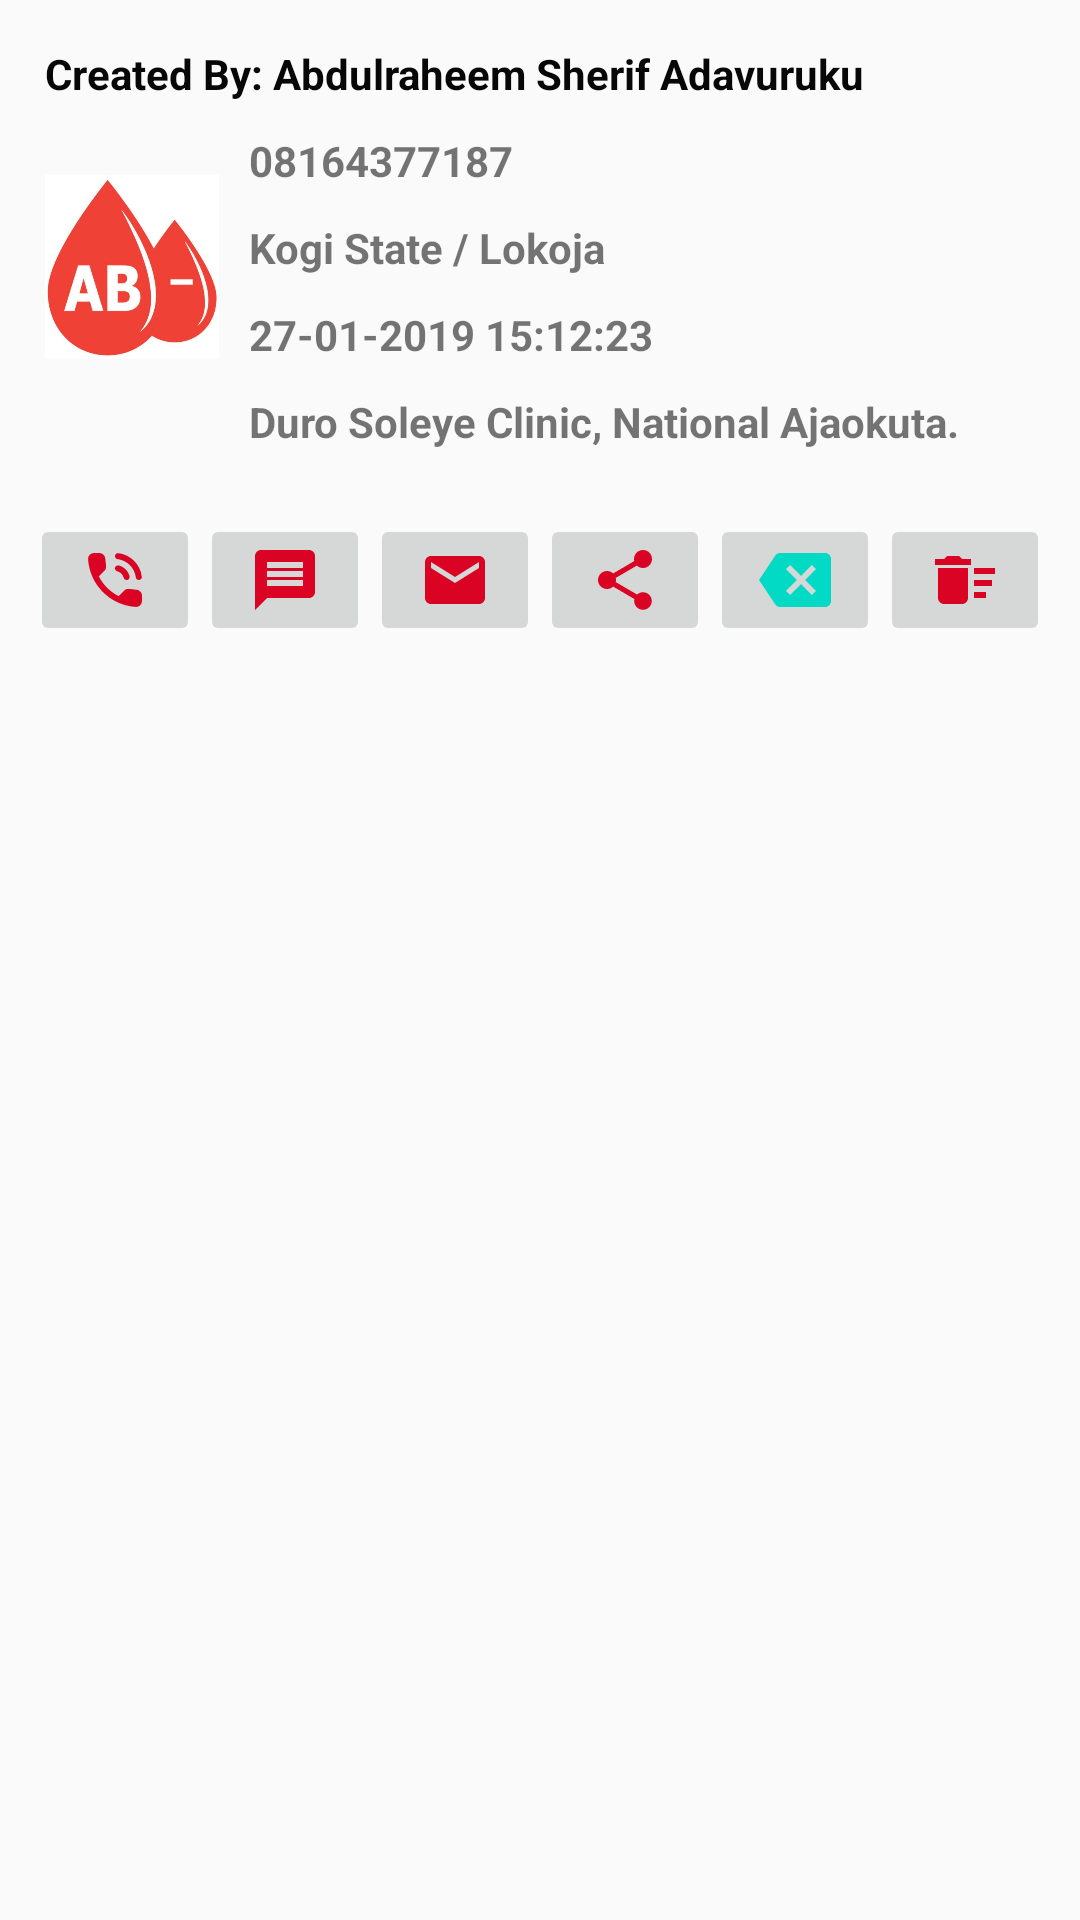

Icon click points for this 1080x1920 phone screenshot, format [x,y]:
abminus: [132,268]
clear: [795,580]
delete sweep: [965,580]
email: [455,580]
message: [285,580]
phone: [115,580]
share: [625,580]
